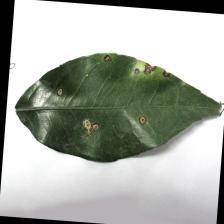canker: (45, 49, 170, 138)
